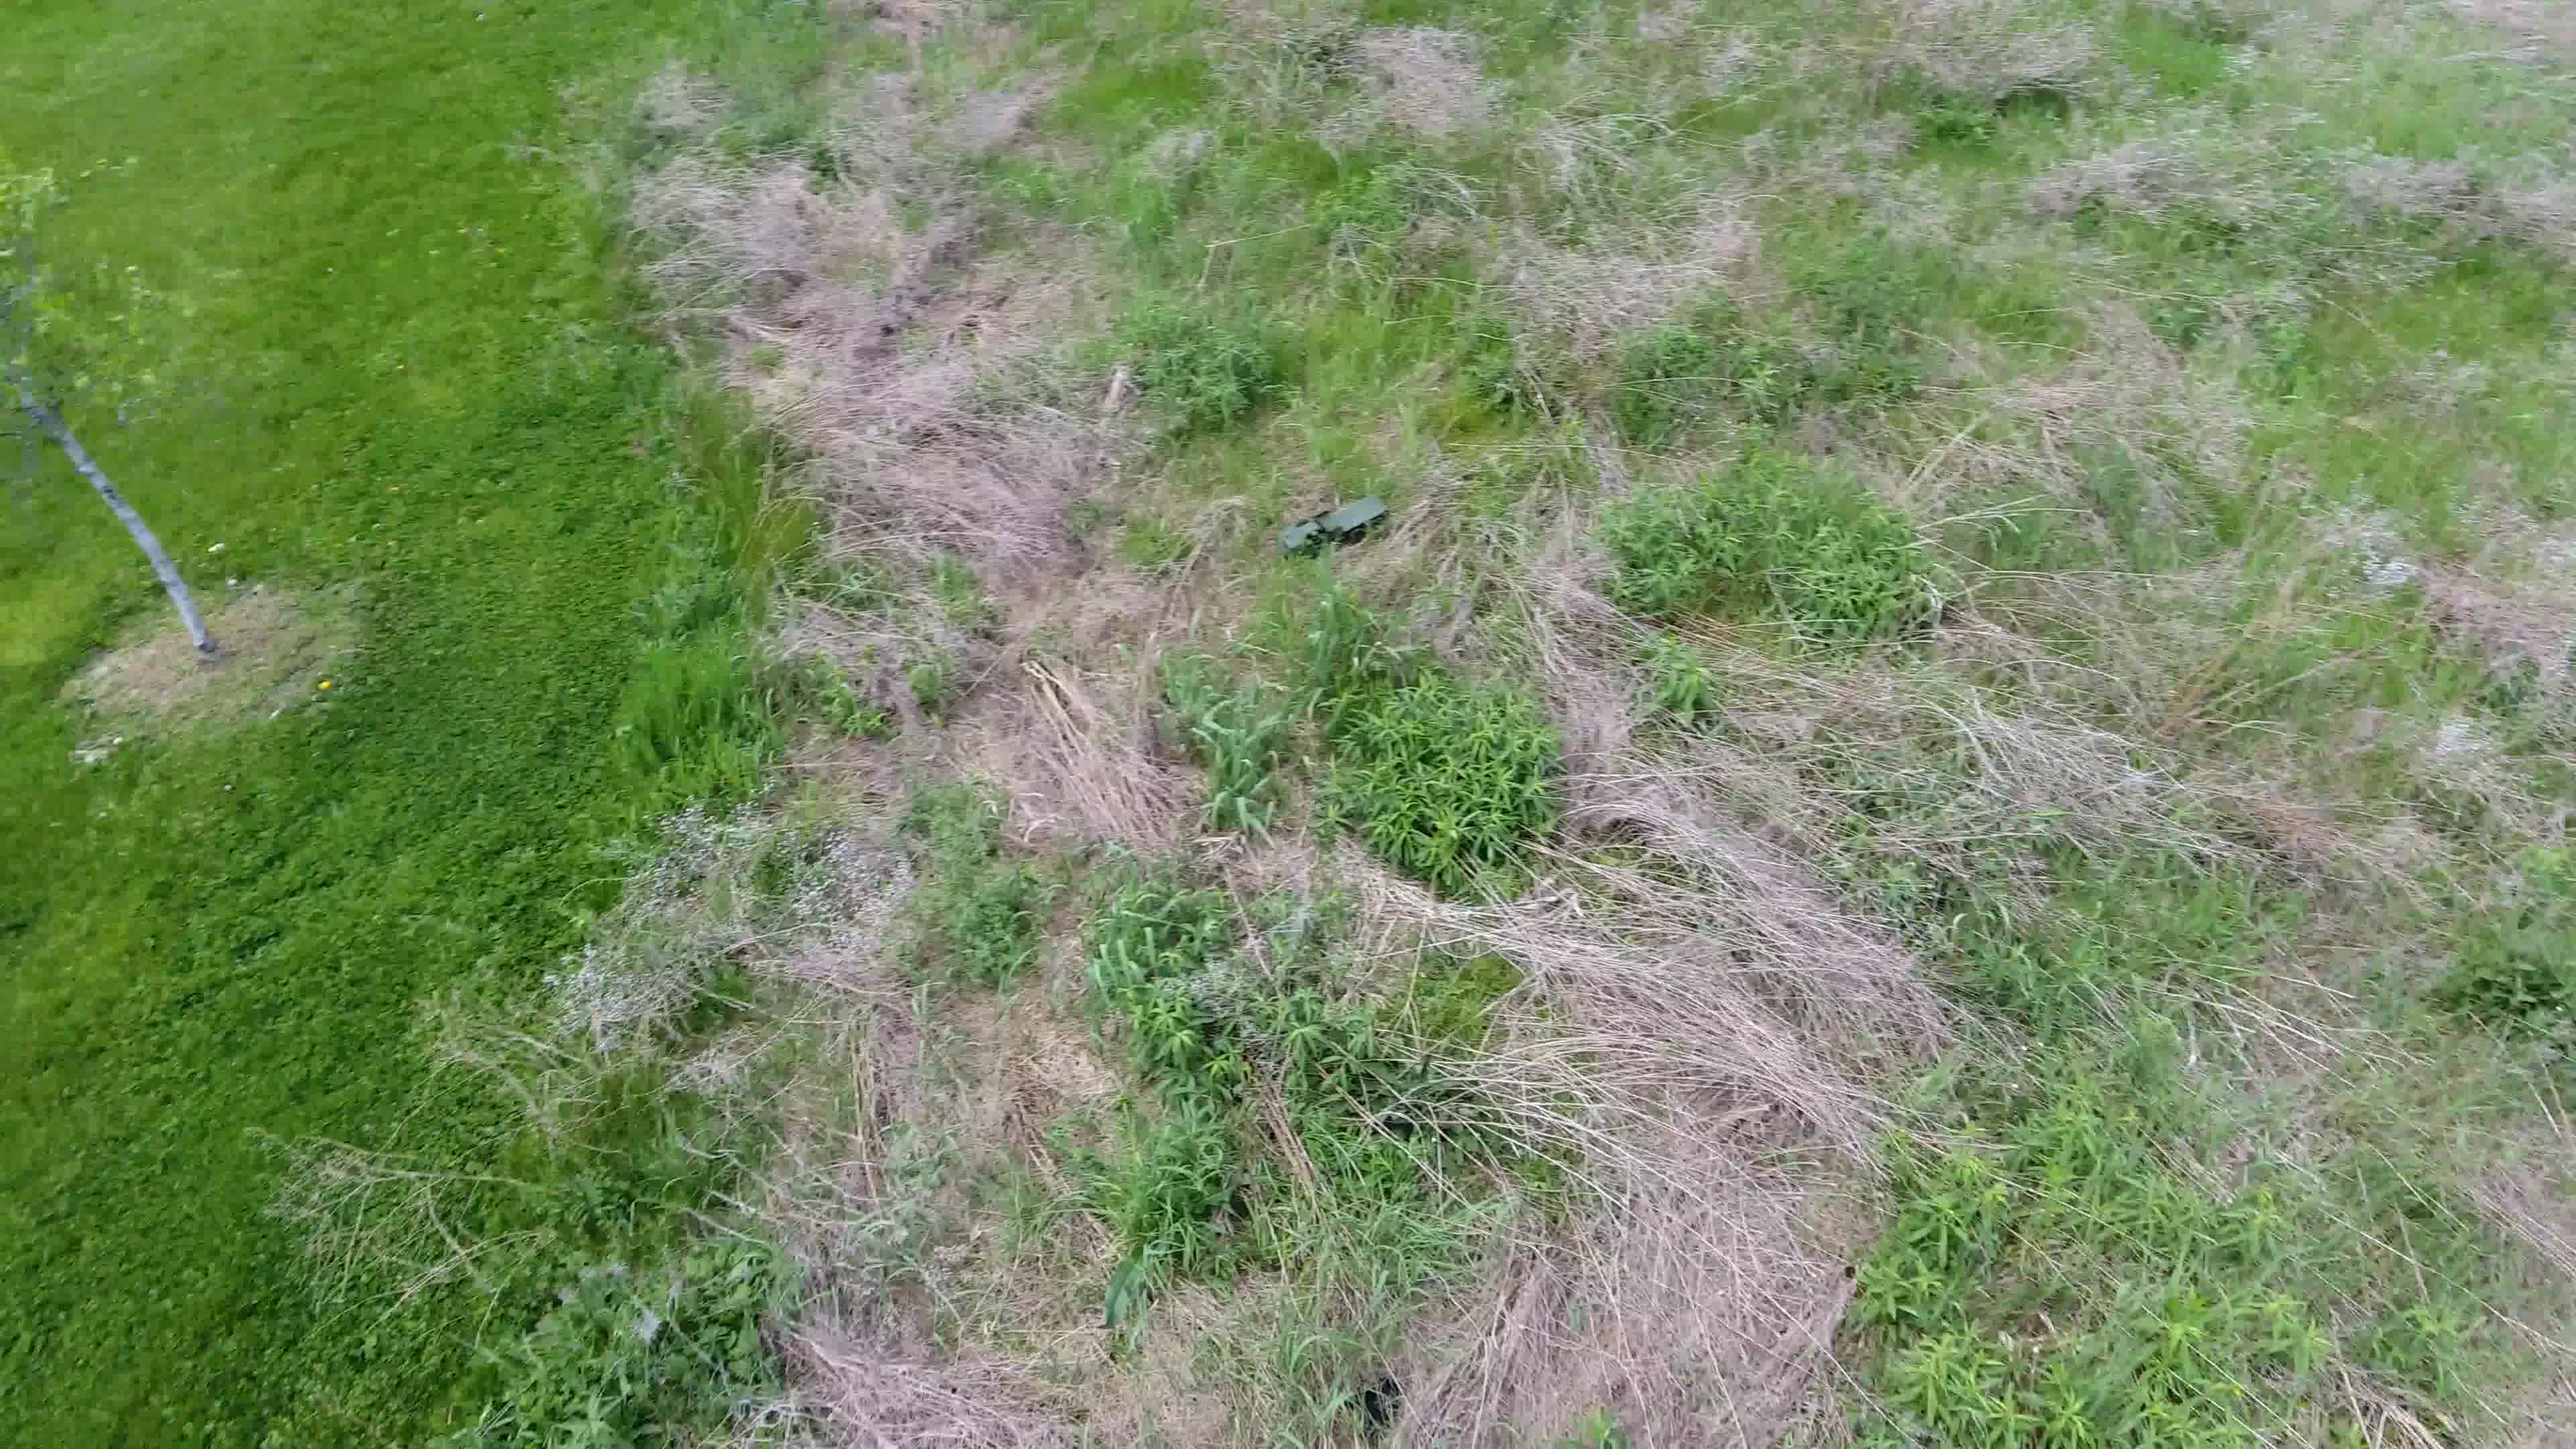transporter9: (1274, 488, 1394, 564)
